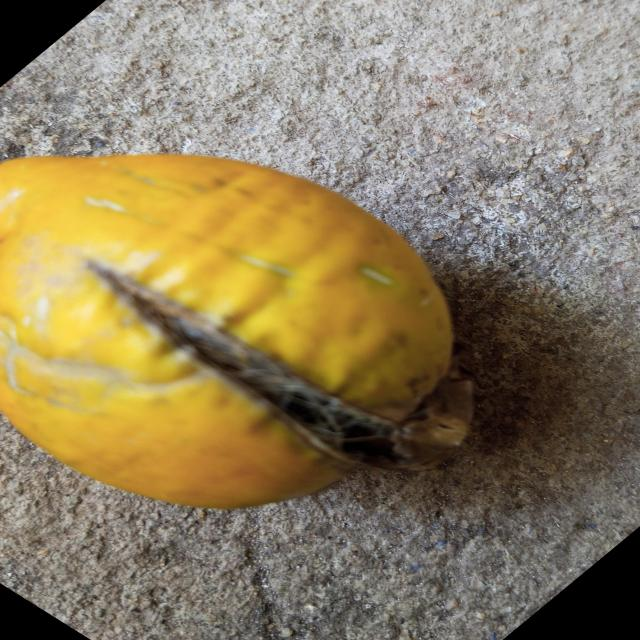damaged: (0, 155, 473, 508)
